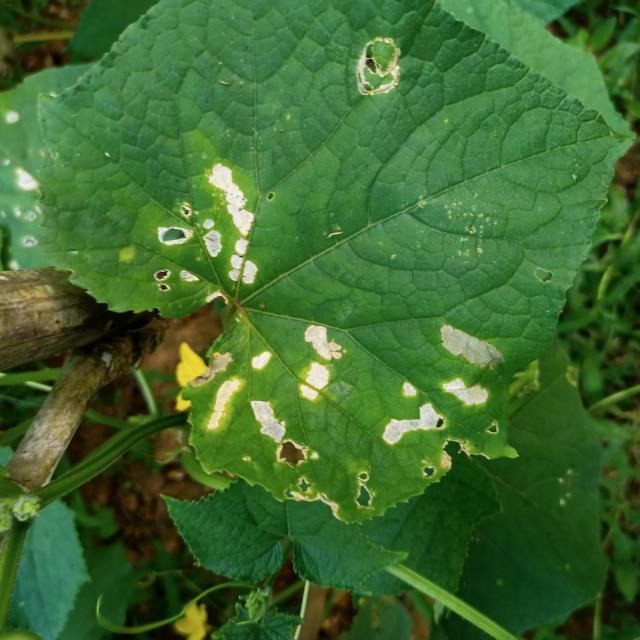disease_cucumber: (146, 158, 277, 308), (190, 338, 287, 458), (440, 319, 505, 411), (294, 318, 349, 403), (378, 380, 438, 449), (273, 436, 318, 475)
